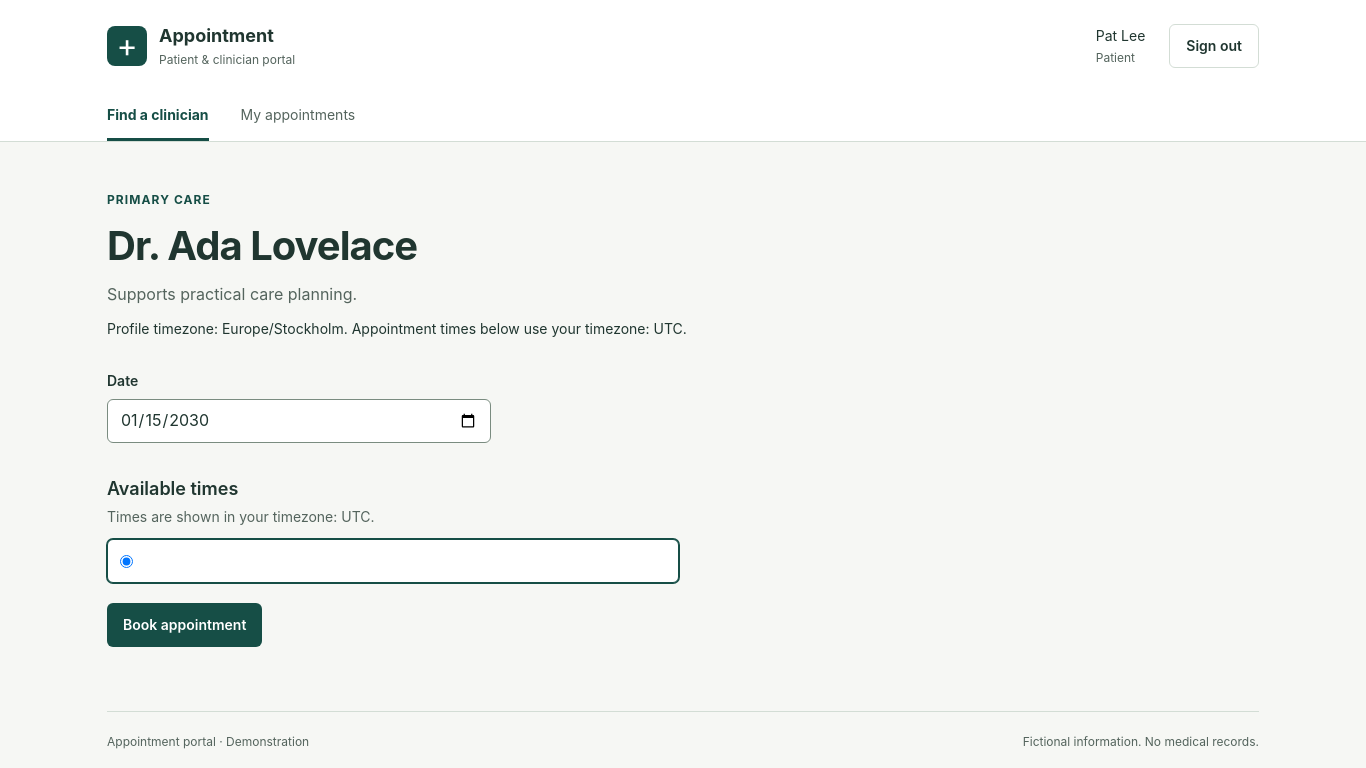
Test: patient appointment journeys › refreshes availability and never confirms a conflicting booking
Click the button "Book appointment" at {"x": 185, "y": 625}, box [107, 603, 262, 647]
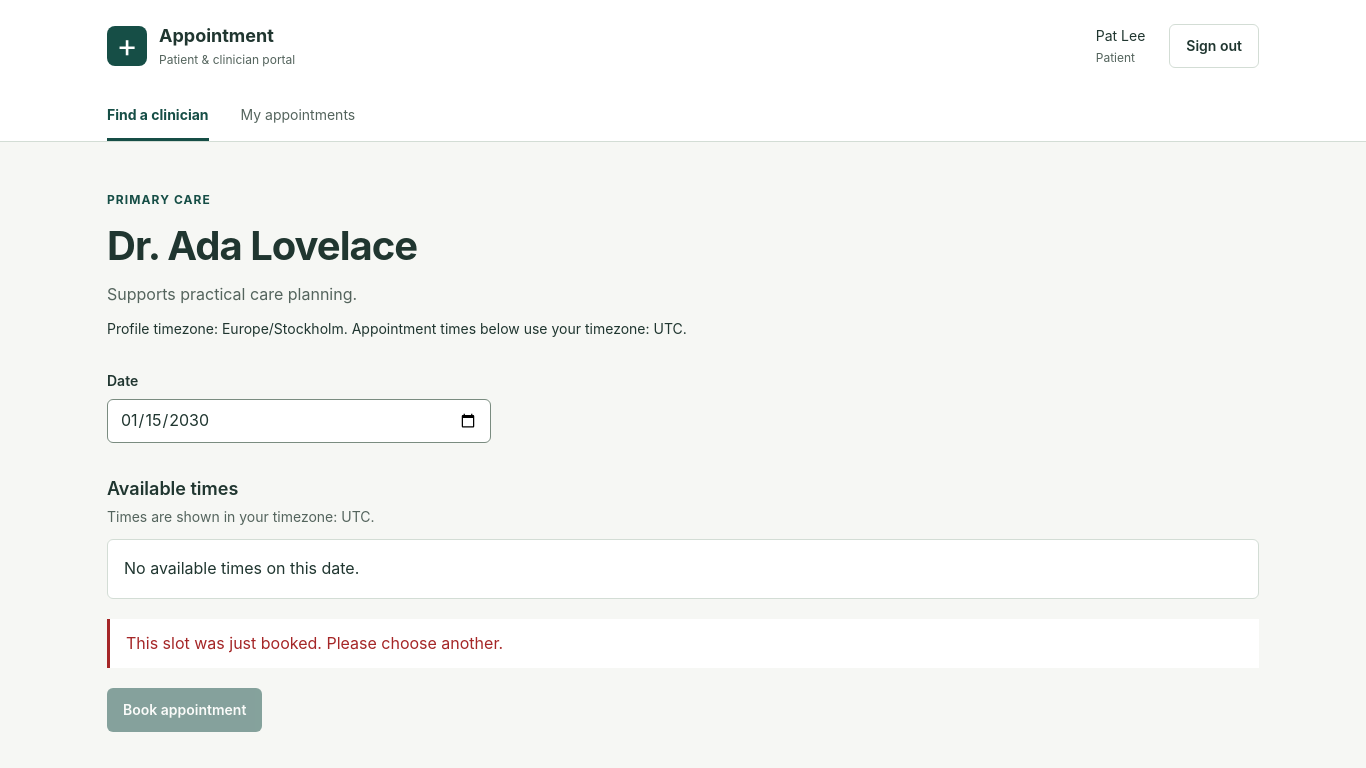
expect the text "This slot was just booked. Please choose another." is shown: met, box [107, 619, 1259, 668]
